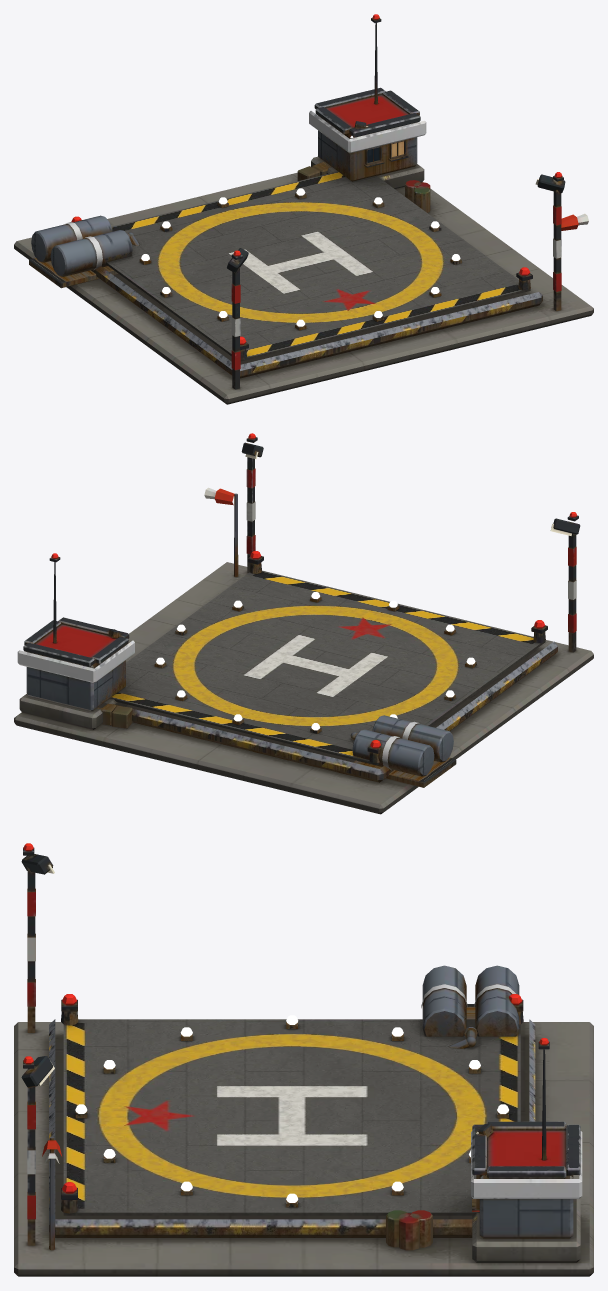
The model's file is hpad.soviet.glb.
3 views of the same model, one above another, from view 1: azimuth 30°, elevation 25°; view 2: azimuth 150°, elevation 25°; view 3: azimuth 270°, elevation 25° (orthographic). The views are drawn at different scales.
Visible parts, largest first — view 1: root_mesh; view 2: root_mesh; view 3: root_mesh.
Boxes of the visible parts, x1=… form: root_mesh: x1=14, y1=14, x2=593, y2=404; root_mesh: x1=14, y1=433, x2=593, y2=814; root_mesh: x1=14, y1=843, x2=593, y2=1276.
Size of the model in its own units: 2.08 by 0.8457 by 1.98.
Materials: 2 (1 with a texture image).
